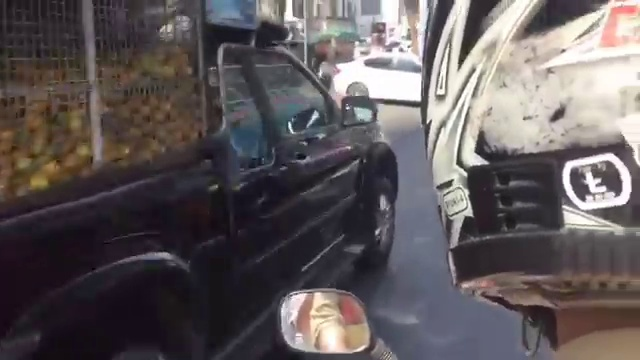helmet: (402, 4, 636, 313)
